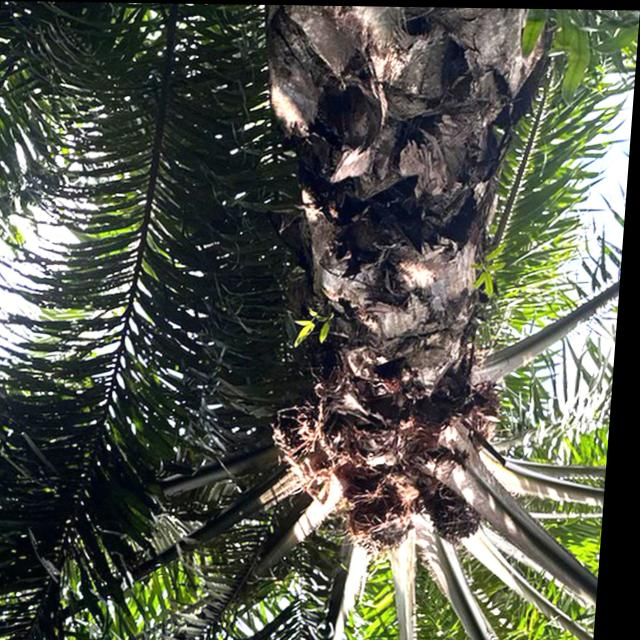unripe: (429, 489, 494, 548)
